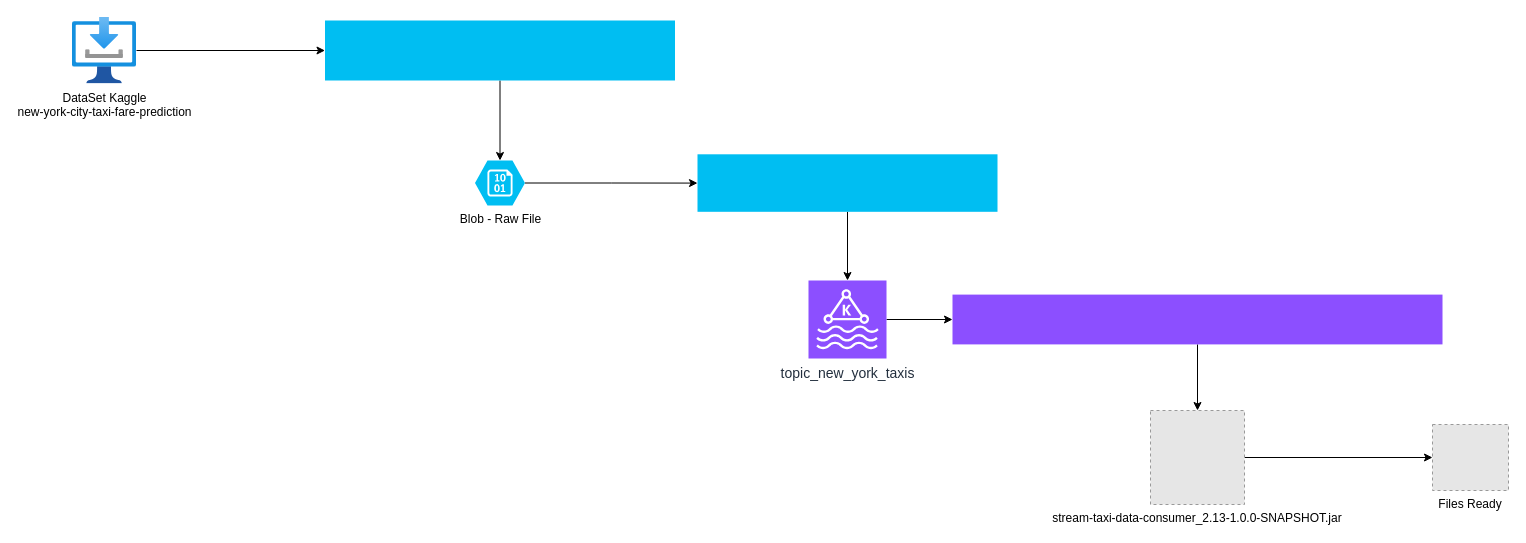
This 1526x543 diagram has some shape labels left out. Grey dashed boxes stand in for pictures. Each missing label, with the centre of its shape:
"Dag SERASA_GET_DATASET_KAGGLE_SEND_AZURE" goes at point (499, 50).
"Dag SERASA_RAW_FILE_PRODUCER_KAFKA" goes at point (847, 182).
"Dag SERASA_READ_PRODUCER_KAFKA_FILTER_SCALA_SPARK" goes at point (1197, 319).
